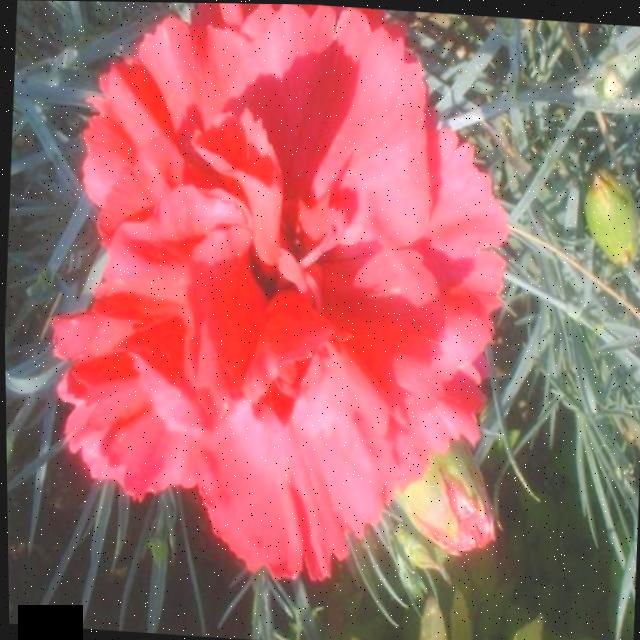carnation: (32, 0, 520, 590)
